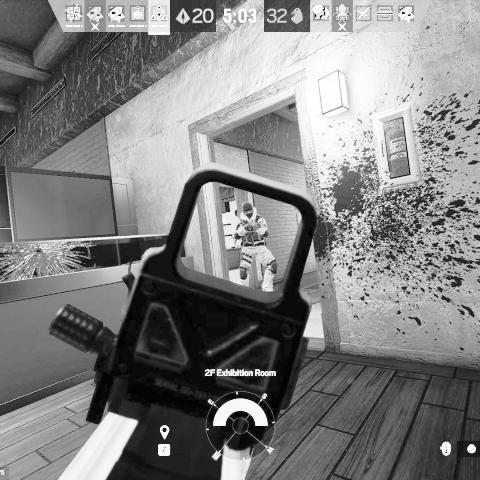Character: (230, 200, 278, 293)
Head: (240, 202, 256, 220)
